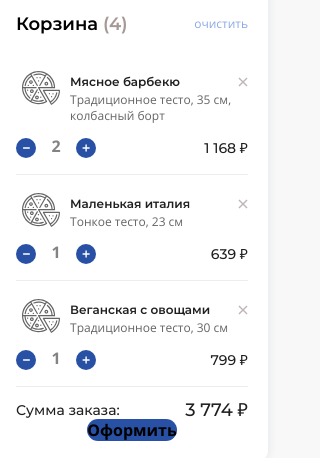
Scenario: <Cart> › удаление конкретной пиццы происходит корректно
expect the number of list items is 3: met, box [16,53,248,175]; [16,175,248,281]; [16,281,248,387]
Click the button "Удалить пиццу из корзины" next to "Мясное барбекю" at (243, 82), box [238,77,248,87]
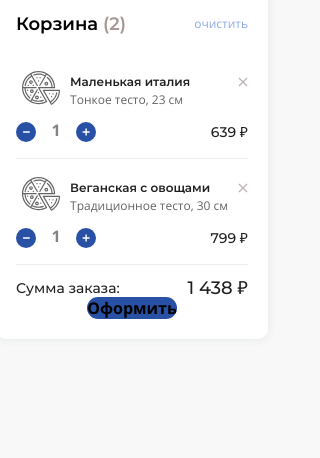
expect the number of list items is 2: met, box [16,53,248,159]; [16,159,248,265]
